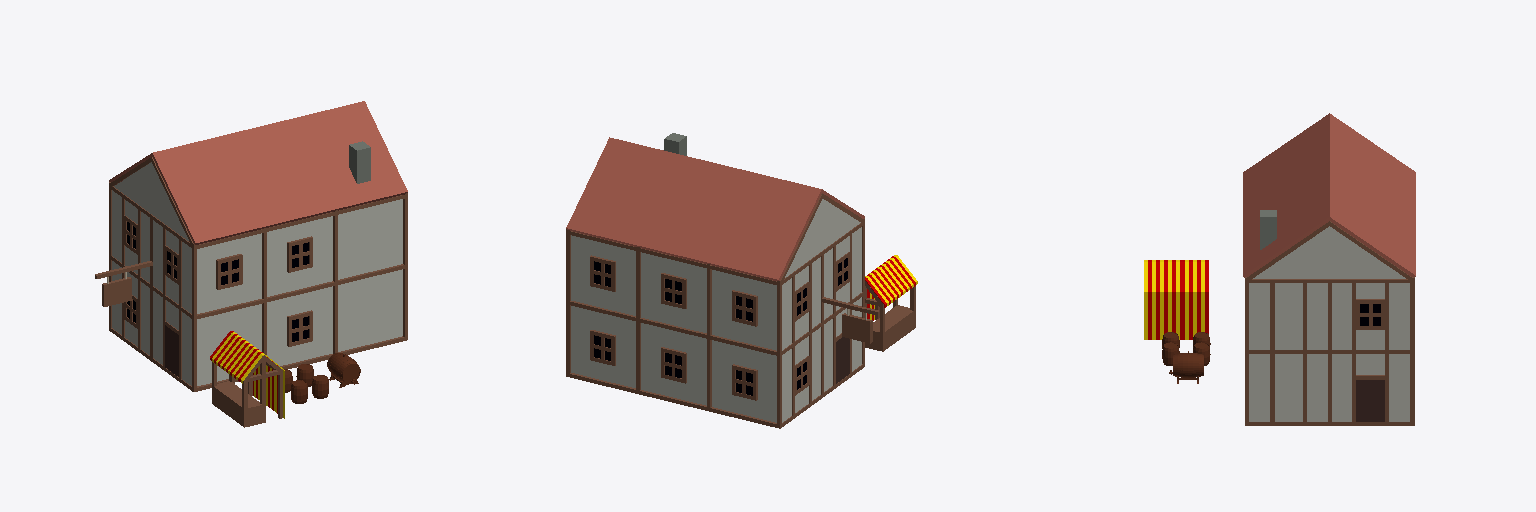
File: timberframedvintner_red_yellow.obj
3 views of the same model, side by side, from view 1: azimuth 30°, elevation 25°; view 2: azimuth 150°, elevation 25°; view 3: azimuth 270°, elevation 25° (orthographic).
Parts seen in each view (by area): view 1: Cube.005, Cube.007_Cube.011, Cube.011_Cube.015, Cube.018_Cube.016, Cube.056_Cube.081, barrel_Untitled, Cube.001_Cube.058, Cube.013_Cube.080, Cube.006_Cube.010, Cube.026_Cube.019, Cube.073_Cube.078, Cube.012_Cube.017 (+6 smaller); view 2: Cube.005, Cube.007_Cube.011, Cube.023_Cube.026, Cube.022_Cube.025, Cube.021_Cube.024, Cube.015_Cube.020, Cube.019_Cube.022, Cube.017_Cube.021, Cube.014_Cube.018, Cube.008, Cube.020_Cube.023, Cube.073_Cube.078 (+6 smaller); view 3: Cube.005, Cube.007_Cube.011, Cube.147_Cube.153, Cube.003, Cube.033, barrel_Untitled, Cube.027, Cube.047_Cube.049, Cube.031, Cube.006_Cube.010, Cube.016_Cube.013, Cube.012_Cube.017 (+5 smaller).
Boxes of the visible parts, x1,y1,x2,y2 form: Cube.005: [112, 162, 402, 385]; Cube.007_Cube.011: [109, 101, 407, 244]; Cube.011_Cube.015: [195, 264, 406, 319]; Cube.018_Cube.016: [195, 195, 406, 249]; Cube.056_Cube.081: [216, 254, 242, 289]; barrel_Untitled: [327, 353, 360, 387]; Cube.001_Cube.058: [287, 310, 312, 346]; Cube.013_Cube.080: [287, 236, 312, 272]; Cube.006_Cube.010: [349, 141, 370, 183]; Cube.026_Cube.019: [192, 243, 196, 391]; Cube.073_Cube.078: [102, 277, 131, 306]; Cube.012_Cube.017: [403, 193, 407, 339]; Cube.005: [571, 199, 861, 422]; Cube.007_Cube.011: [566, 137, 864, 280]; Cube.023_Cube.026: [567, 373, 776, 427]; Cube.022_Cube.025: [567, 301, 777, 355]; Cube.021_Cube.024: [570, 231, 776, 284]; Cube.015_Cube.020: [732, 290, 757, 326]; Cube.019_Cube.022: [661, 347, 686, 383]; Cube.017_Cube.021: [590, 330, 615, 365]; Cube.014_Cube.018: [661, 273, 686, 308]; Cube.008: [590, 255, 615, 291]; Cube.020_Cube.023: [732, 364, 757, 400]; Cube.073_Cube.078: [842, 313, 872, 343]; Cube.005: [1249, 226, 1409, 421]; Cube.007_Cube.011: [1243, 113, 1415, 277]; Cube.147_Cube.153: [1144, 292, 1208, 339]; Cube.003: [1356, 380, 1384, 421]; Cube.033: [1356, 299, 1384, 329]; barrel_Untitled: [1169, 351, 1203, 383]; Cube.027: [1410, 277, 1414, 425]; Cube.047_Cube.049: [1270, 279, 1274, 423]; Cube.031: [1249, 422, 1410, 425]; Cube.006_Cube.010: [1260, 210, 1276, 249]; Cube.016_Cube.013: [1248, 350, 1409, 353]; Cube.012_Cube.017: [1245, 277, 1248, 425].
Size of the model in its own units: 15.3 by 11.25 by 13.34.